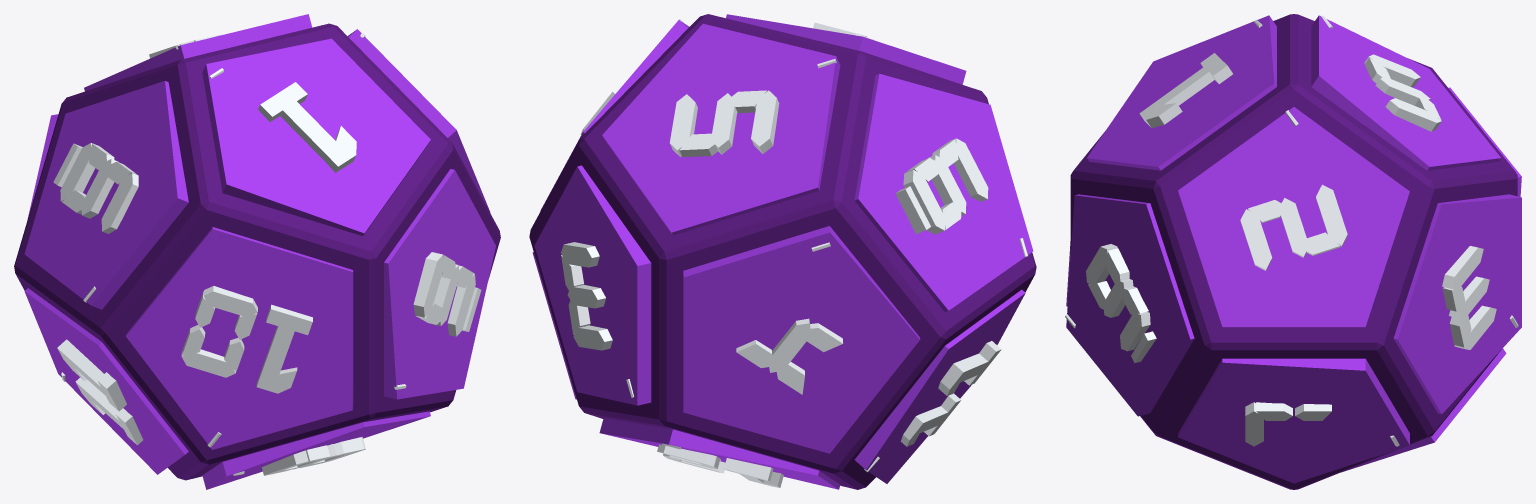
The picture shows the model from 3 angles, left to right: view 1: azimuth 30°, elevation 25°; view 2: azimuth 150°, elevation 25°; view 3: azimuth 270°, elevation 25°; orthographic projection. The views are drawn at different scales.
Visible parts, largest first — view 1: CUTLINE d12 canonical sculpture; view 2: CUTLINE d12 canonical sculpture; view 3: CUTLINE d12 canonical sculpture.
Part boxes in pixels (box(x1,y1,x2,y2)): CUTLINE d12 canonical sculpture: box(14, 14, 500, 489); CUTLINE d12 canonical sculpture: box(529, 14, 1036, 489); CUTLINE d12 canonical sculpture: box(1065, 14, 1521, 489).
Size of the model in its own units: 1.7 by 1.7 by 1.7.
